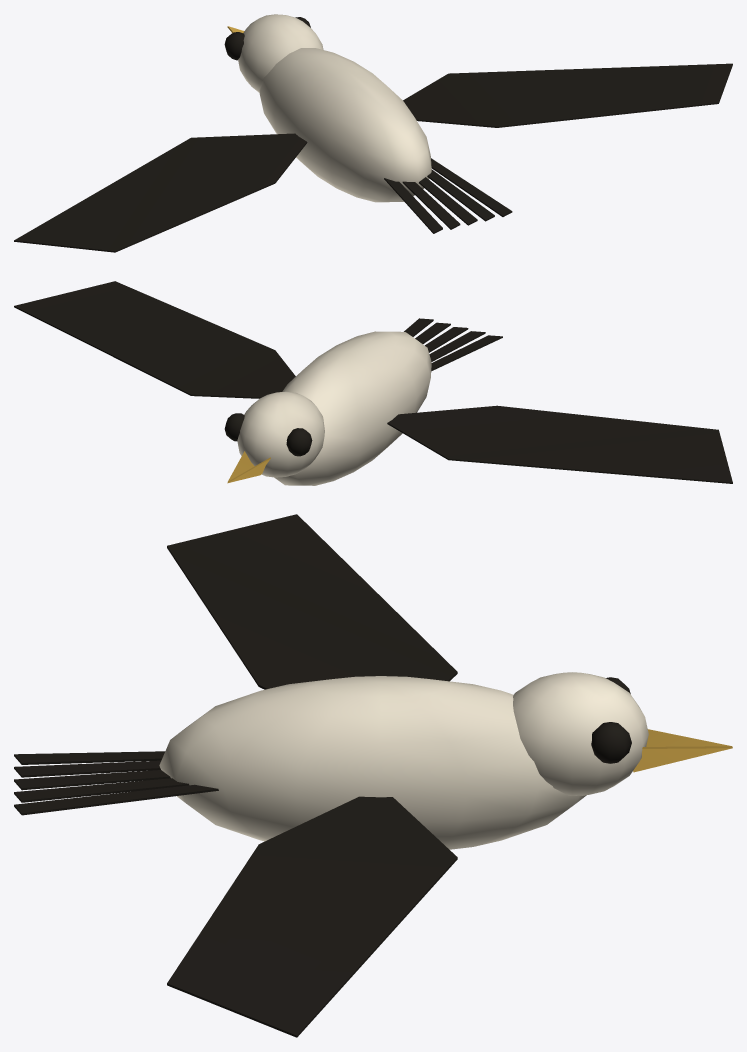
The model's file is bird.glb.
3 renders of one model, top to bottom at view 1: azimuth 30°, elevation 25°; view 2: azimuth 150°, elevation 25°; view 3: azimuth 270°, elevation 25°, orthographic. The views are drawn at different scales.
Parts seen in each view (by area): view 1: bird body, wing, wing.001, eye; view 2: bird body, wing, wing.001, eye, flight beak; view 3: bird body, wing.001, wing, eye, flight beak.
Boxes of the visible parts, box(x1,y1,x2,y2) form: bird body: box(238, 14, 431, 202); wing: box(14, 133, 307, 252); wing.001: box(403, 63, 732, 127); eye: box(224, 17, 512, 233); bird body: box(237, 331, 431, 485); wing: box(387, 405, 732, 483); wing.001: box(14, 281, 295, 398); eye: box(224, 318, 502, 456); flight beak: box(227, 451, 270, 483); bird body: box(159, 672, 648, 849); wing.001: box(167, 796, 457, 1037); wing: box(167, 514, 457, 689); eye: box(14, 677, 631, 815); flight beak: box(633, 729, 732, 772).
Size of the model in its own units: 1.62 by 0.247 by 0.94.
